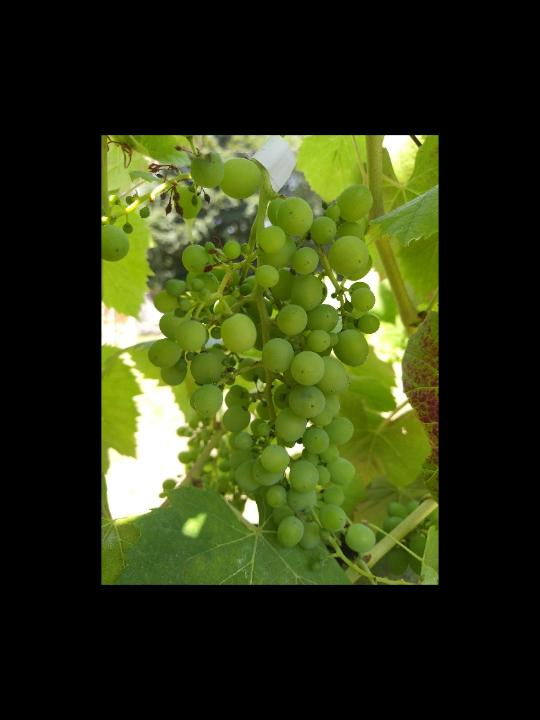grape: (145, 183, 378, 553)
